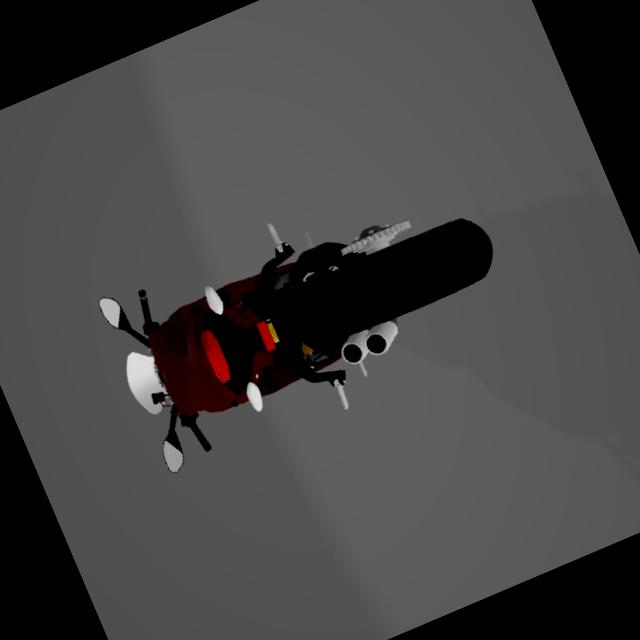Motobike: (86, 134, 545, 492)
